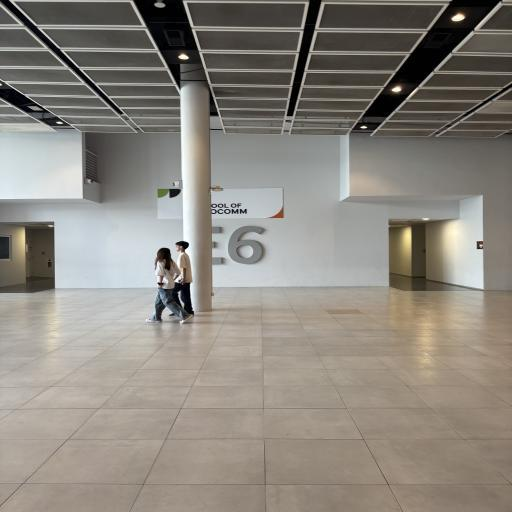person_left: (150, 246, 180, 324), (170, 240, 194, 318)
